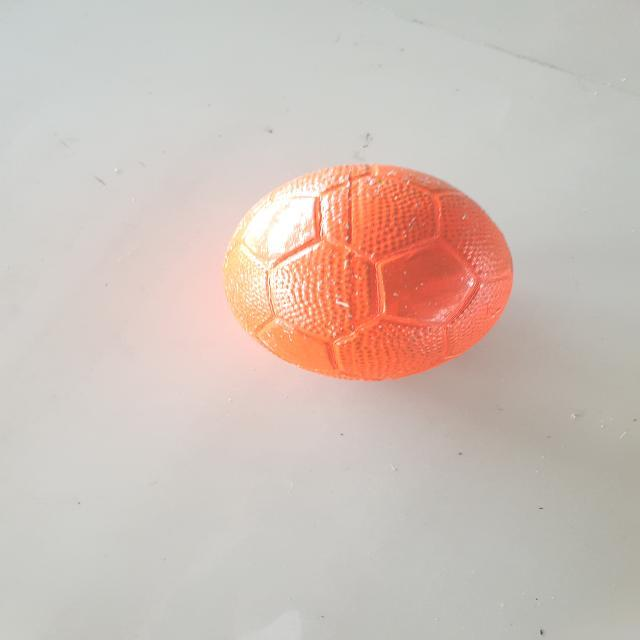bola: (194, 148, 522, 398)
